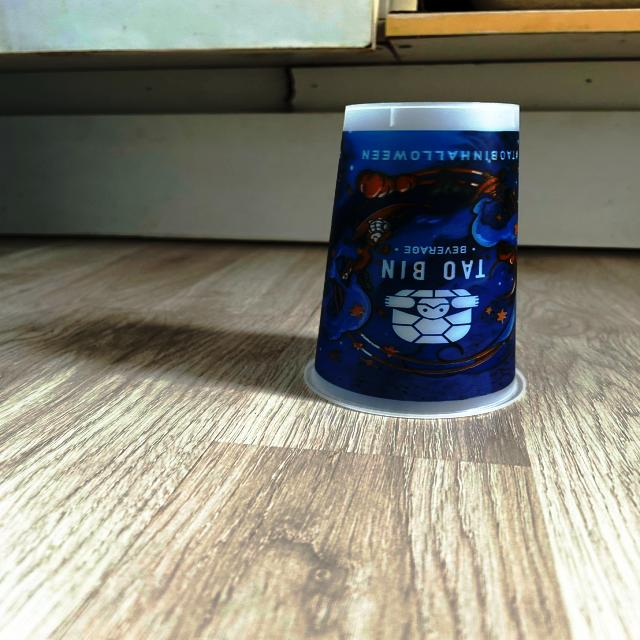Plastic Cup: (304, 103, 524, 418)
